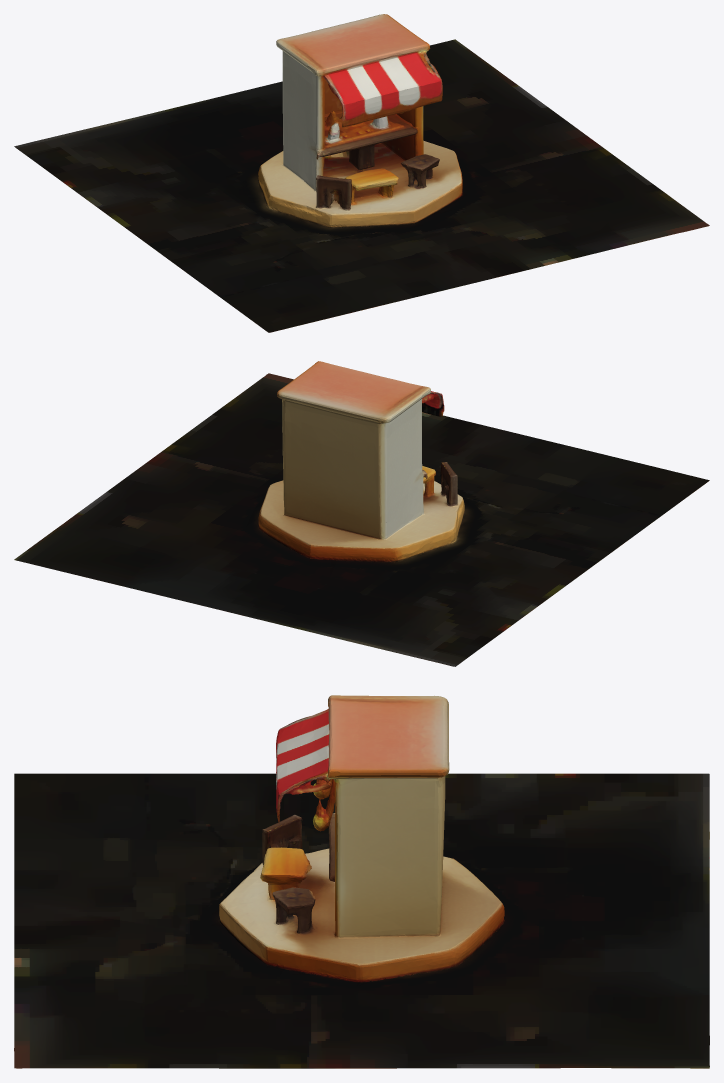
File: mercado.glb
3 views of the same model, one above another, from view 1: azimuth 30°, elevation 25°; view 2: azimuth 150°, elevation 25°; view 3: azimuth 270°, elevation 25° (orthographic). The views are drawn at different scales.
Parts seen in each view (by area): view 1: world; view 2: world; view 3: world.
Boxes of the visible parts, x1,y1,x2,y2 form: world: (14, 14, 709, 332); world: (14, 361, 709, 666); world: (14, 695, 709, 1068).
Size of the model in its own units: 1 by 0.3 by 1.
1 material, 1 textured.
